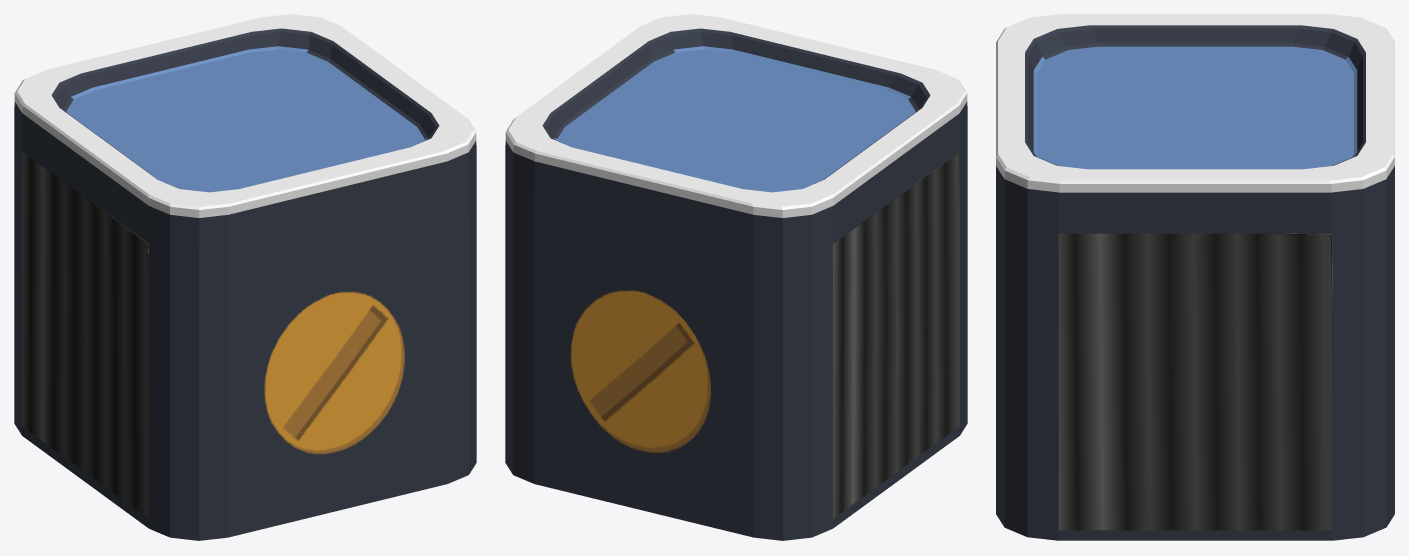
File: Medicamento_Pilula.fbx
3 renders of one model, left to right at view 1: azimuth 30°, elevation 25°; view 2: azimuth 150°, elevation 25°; view 3: azimuth 270°, elevation 25°, orthographic. The views are drawn at different scales.
Visible parts, largest first — view 1: Medicamento_Vidro; view 2: Medicamento_Vidro; view 3: Medicamento_Vidro.
Boxes of the visible parts, <box> form: Medicamento_Vidro: <box>14,14,476,540</box>; Medicamento_Vidro: <box>505,14,967,540</box>; Medicamento_Vidro: <box>996,14,1394,540</box>.
Bounding box in the file's own units: 418 × 418 × 418.
